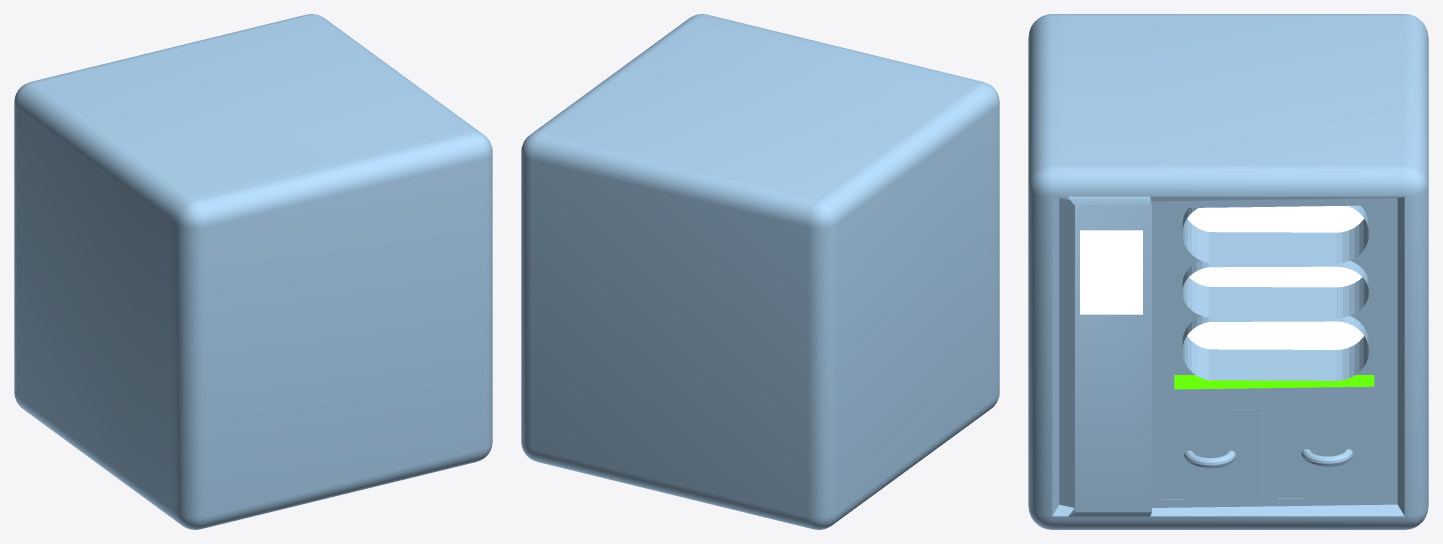
File: obloshka_big.gltf
The picture shows the model from 3 angles, left to right: view 1: azimuth 30°, elevation 25°; view 2: azimuth 150°, elevation 25°; view 3: azimuth 270°, elevation 25°; orthographic projection. The views are drawn at different scales.
Visible parts, largest first — view 1: BODY.001; view 2: BODY.001; view 3: BODY.001, коробка.003, коробка.002, SCREEN.001.
Part boxes in pixels (x1=…): BODY.001: x1=14, y1=14, x2=492, y2=529; BODY.001: x1=521, y1=14, x2=999, y2=529; BODY.001: x1=1028, y1=14, x2=1428, y2=529; коробка.003: x1=1278, y1=408, x2=1376, y2=497; коробка.002: x1=1161, y1=410, x2=1258, y2=499; SCREEN.001: x1=1080, y1=230, x2=1142, y2=314.
Bounding box in the file's own units: 4.18 × 4 × 4.
